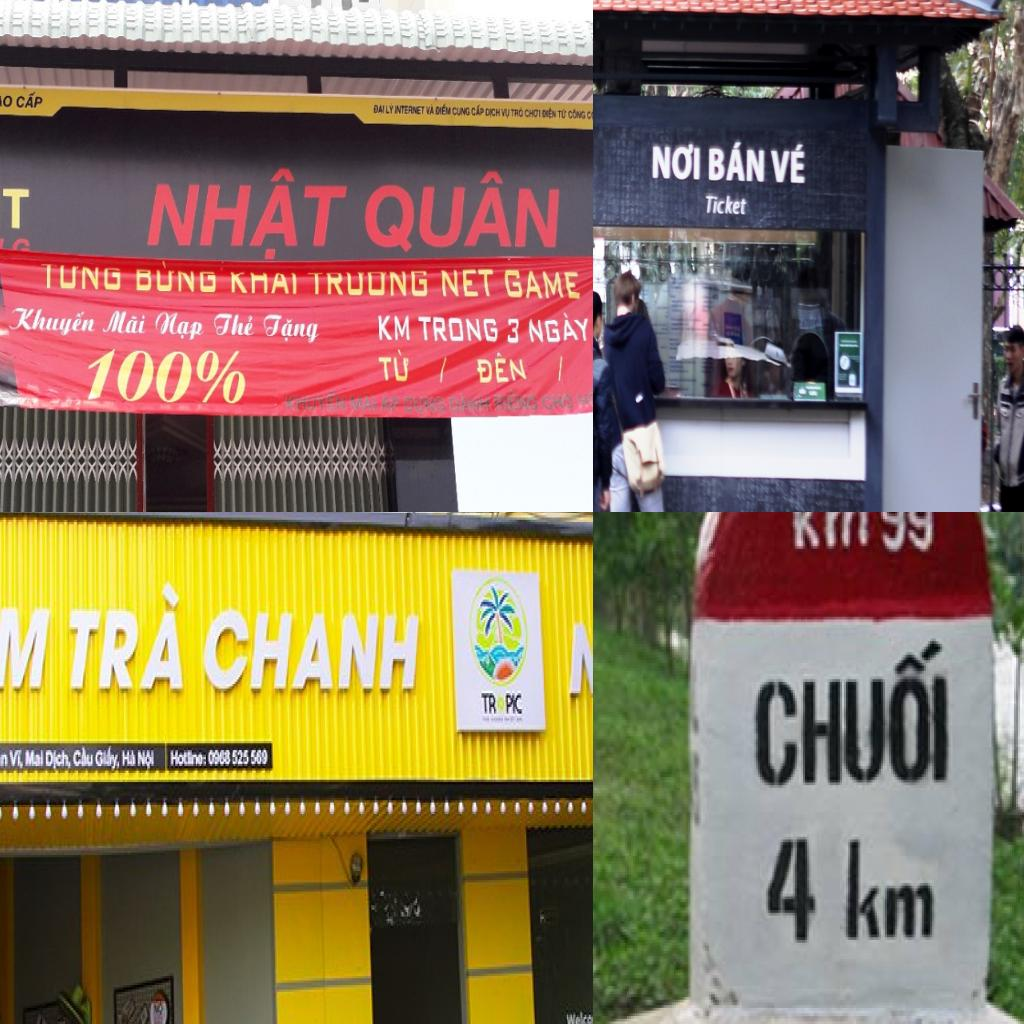text: (750, 641, 956, 788), (200, 602, 422, 700), (139, 163, 353, 262), (358, 165, 565, 255), (64, 574, 184, 698), (84, 346, 247, 404), (756, 834, 821, 951), (0, 583, 54, 716), (303, 268, 429, 298), (784, 512, 874, 554), (6, 305, 98, 340), (878, 512, 938, 557), (416, 314, 500, 346), (706, 140, 766, 184), (38, 261, 123, 292), (503, 268, 583, 300), (134, 266, 218, 296), (260, 311, 324, 349), (527, 310, 593, 344), (649, 140, 701, 183), (472, 352, 530, 387), (153, 308, 208, 343), (207, 743, 270, 773), (0, 181, 36, 233), (230, 270, 298, 297), (769, 140, 806, 188), (439, 268, 494, 298), (284, 391, 348, 414), (212, 308, 258, 339), (100, 307, 148, 336), (375, 350, 412, 386), (376, 312, 413, 344), (703, 192, 747, 217), (168, 746, 208, 773), (448, 391, 492, 415), (492, 392, 540, 414), (402, 392, 447, 415), (46, 744, 73, 776), (96, 743, 123, 773), (350, 392, 378, 414), (540, 394, 576, 410), (563, 1005, 593, 1024), (434, 352, 450, 386), (16, 92, 45, 110), (480, 691, 499, 718), (137, 748, 157, 773), (24, 746, 46, 768), (73, 746, 95, 768), (380, 392, 400, 415), (122, 743, 138, 771), (8, 746, 26, 770), (506, 316, 520, 346), (506, 690, 522, 714), (574, 391, 593, 410), (394, 105, 426, 116), (556, 353, 566, 386), (567, 108, 586, 122), (540, 106, 556, 122), (484, 106, 502, 120), (452, 106, 472, 118), (0, 92, 14, 109), (435, 104, 452, 118), (510, 106, 526, 120), (525, 108, 543, 120), (471, 104, 485, 118), (0, 745, 7, 770), (424, 104, 436, 118), (373, 103, 386, 115), (556, 108, 568, 120), (385, 103, 395, 116), (502, 109, 510, 120)
